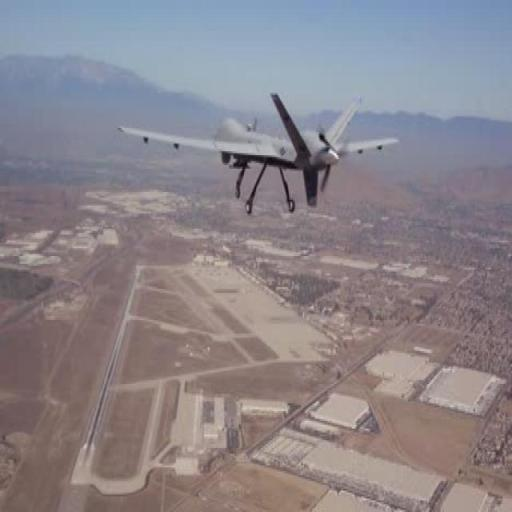uav: (114, 91, 404, 217)
